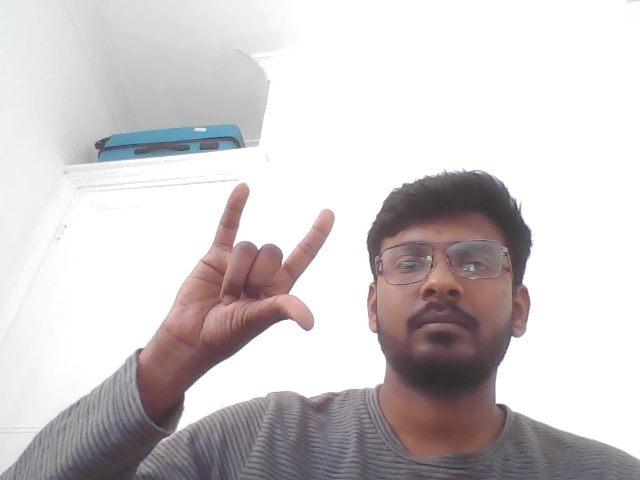ILoveYou: (115, 173, 362, 444)
